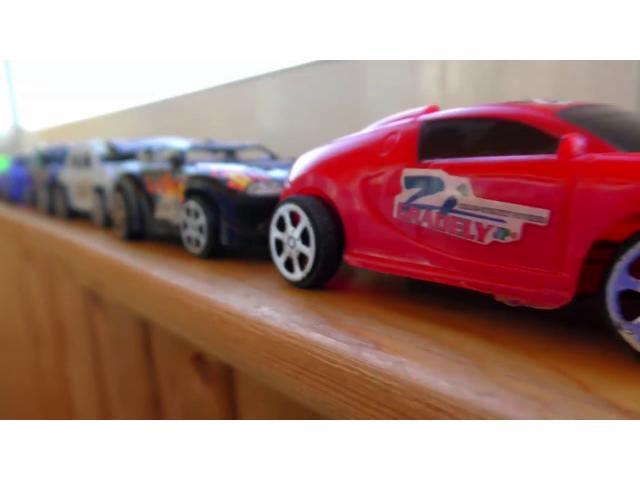toy-car: (269, 98, 640, 359), (113, 142, 296, 259), (53, 140, 127, 226)
